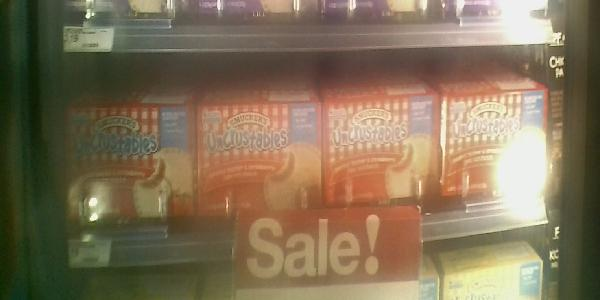icecream: (63, 104, 195, 224), (200, 103, 321, 214), (326, 103, 439, 208), (444, 100, 546, 211)
